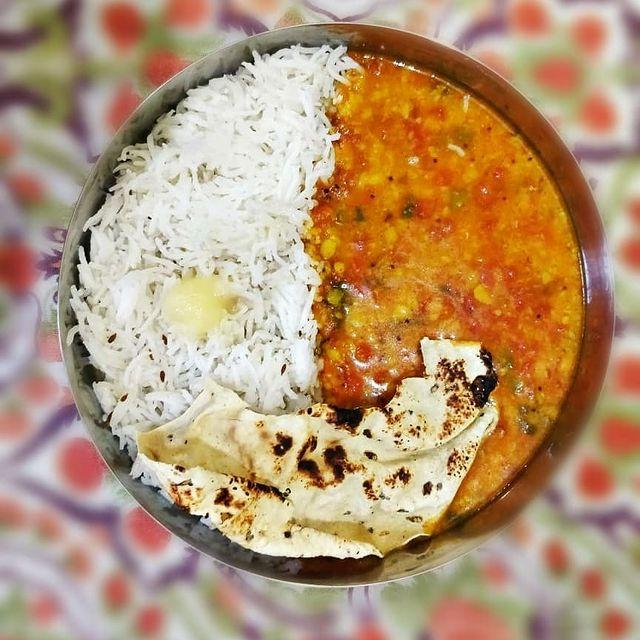Roti: (108, 387, 512, 581)
White Rice: (48, 41, 310, 427)
